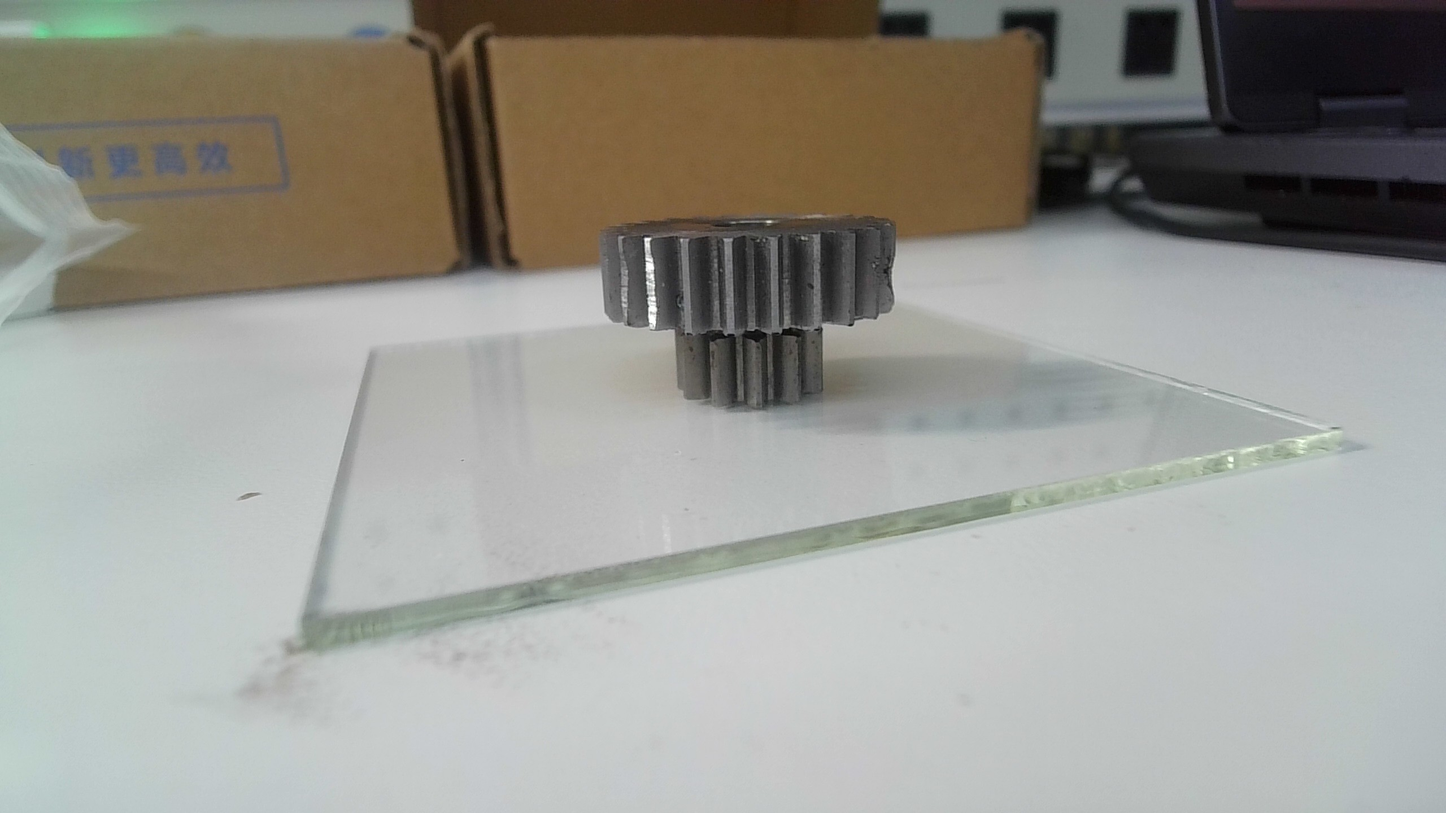gear: (593, 211, 900, 407)
